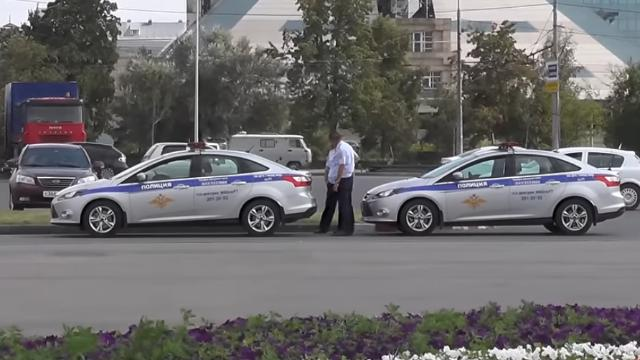non emergency car: (3, 81, 85, 145), (563, 138, 640, 206), (9, 147, 93, 207), (231, 134, 309, 169), (85, 143, 130, 180)
police car: (359, 141, 625, 235), (50, 143, 316, 234)
